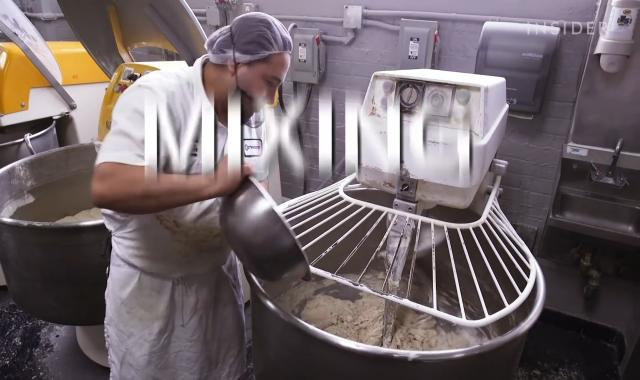hairnet: (203, 14, 292, 63)
